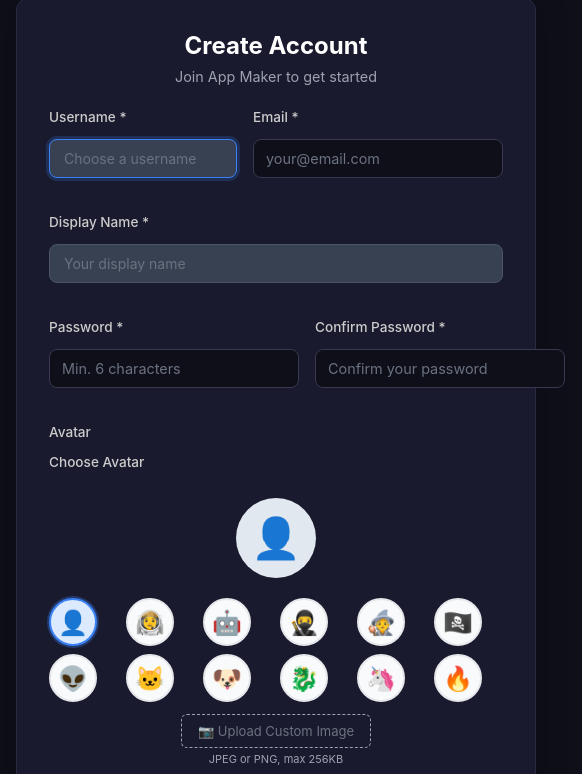
RegisterView › shows validation error for password mismatch
In the field with test id "register-username": (143, 158) [49,139,237,178], type "testuser"
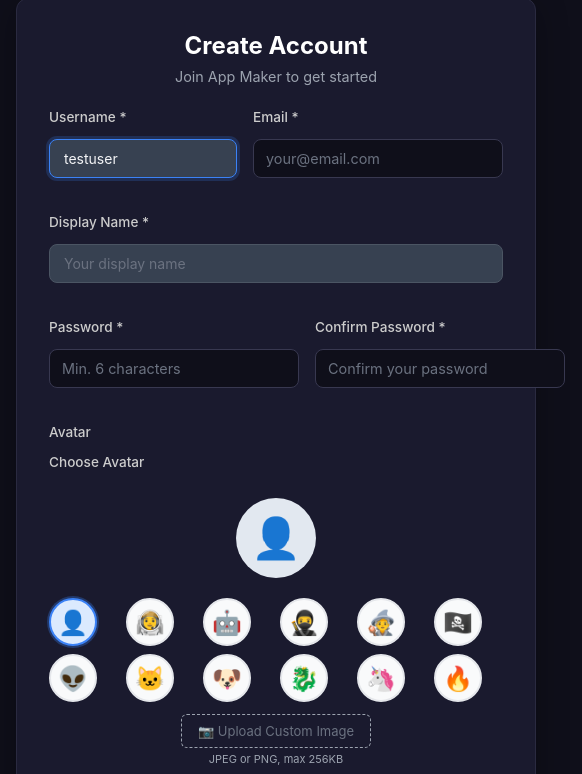
In the field with test id "register-email": (378, 158) [253,139,503,178], type "test@test.com"
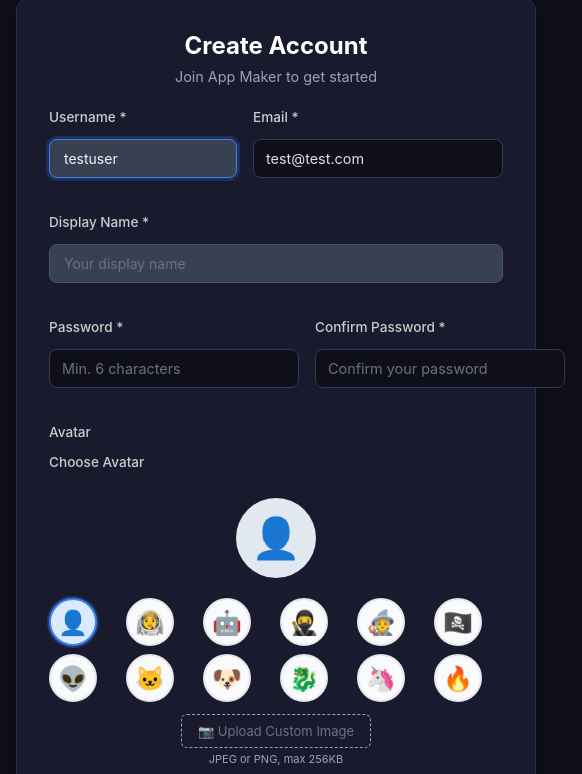
In the field with test id "register-displayname": (276, 264) [49,244,503,283], type "Test"
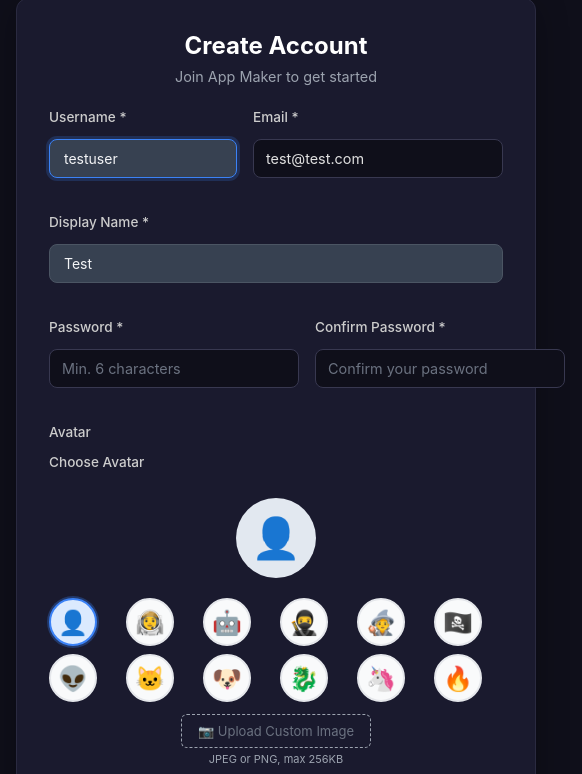
In the password field with test id "register-password": (174, 368) [49,349,299,388], type "password123"
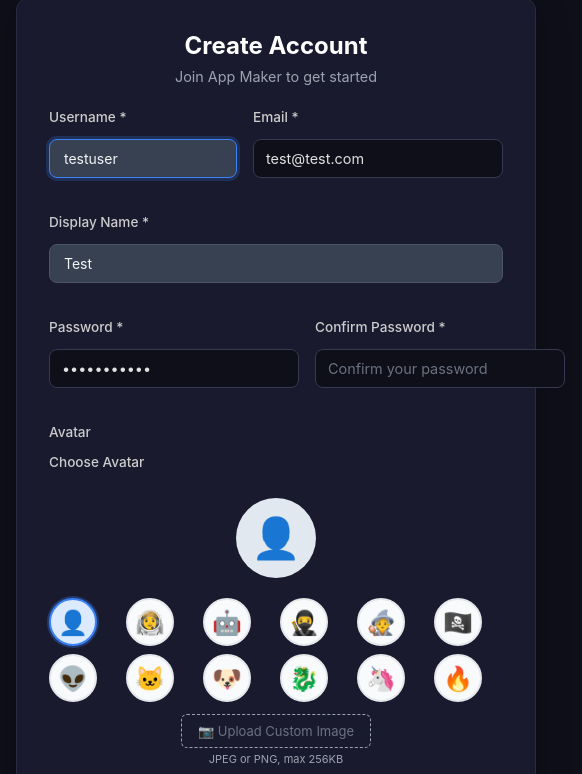
In the password field with test id "register-confirm-password": (440, 368) [315,349,565,388], type "different"
(page scrolled)
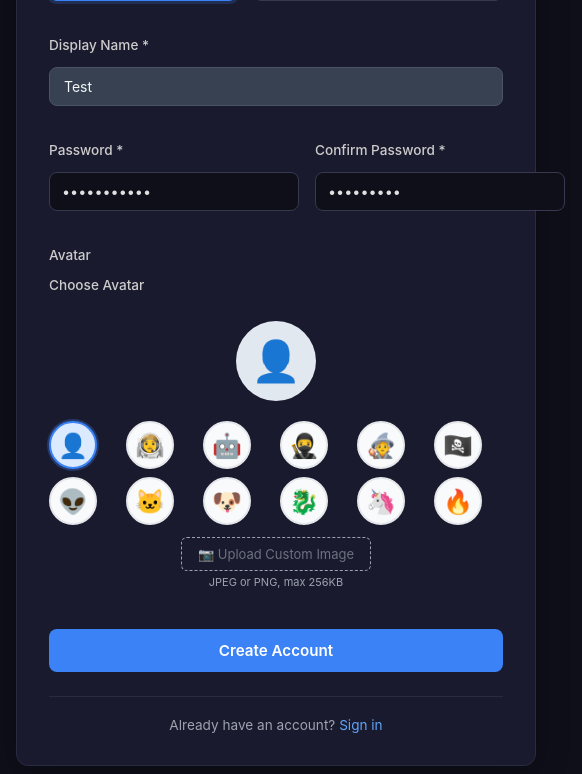
Click the button with test id "register-submit": (276, 650) [49,629,503,672]
(page scrolled)
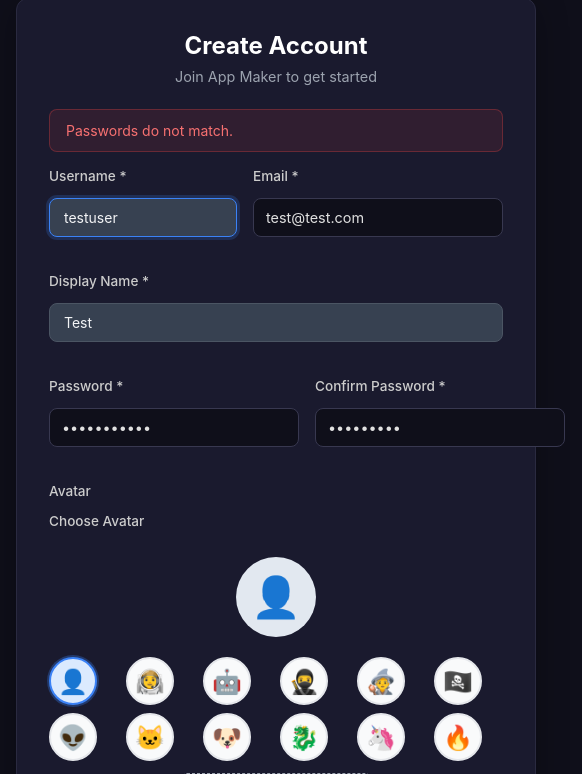
Check: the message with test id "register-error" shows "do not match", box [66,122,233,139]
